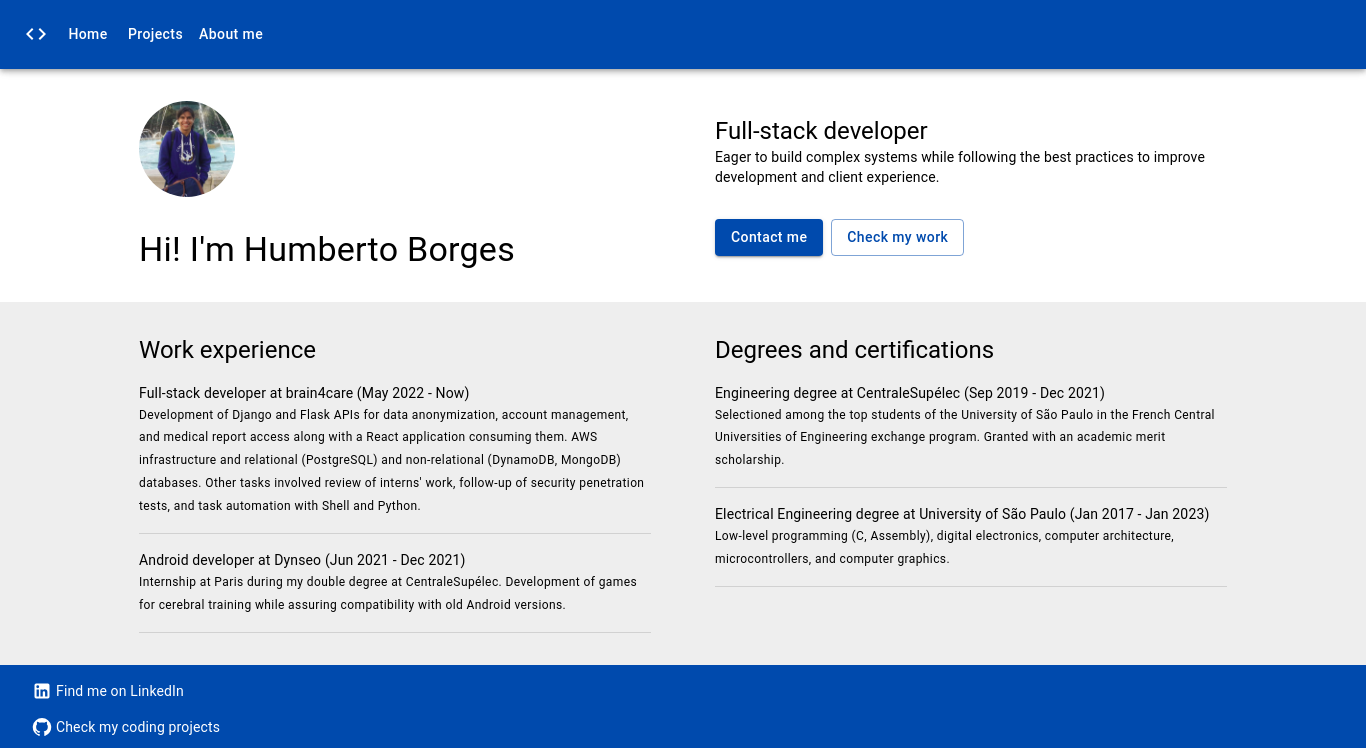
Test: should redirect to the projects page when clicking on the 'view my work' button
Click the button with test id "projects-button" at (898, 238), box 831,219 -> 964,256
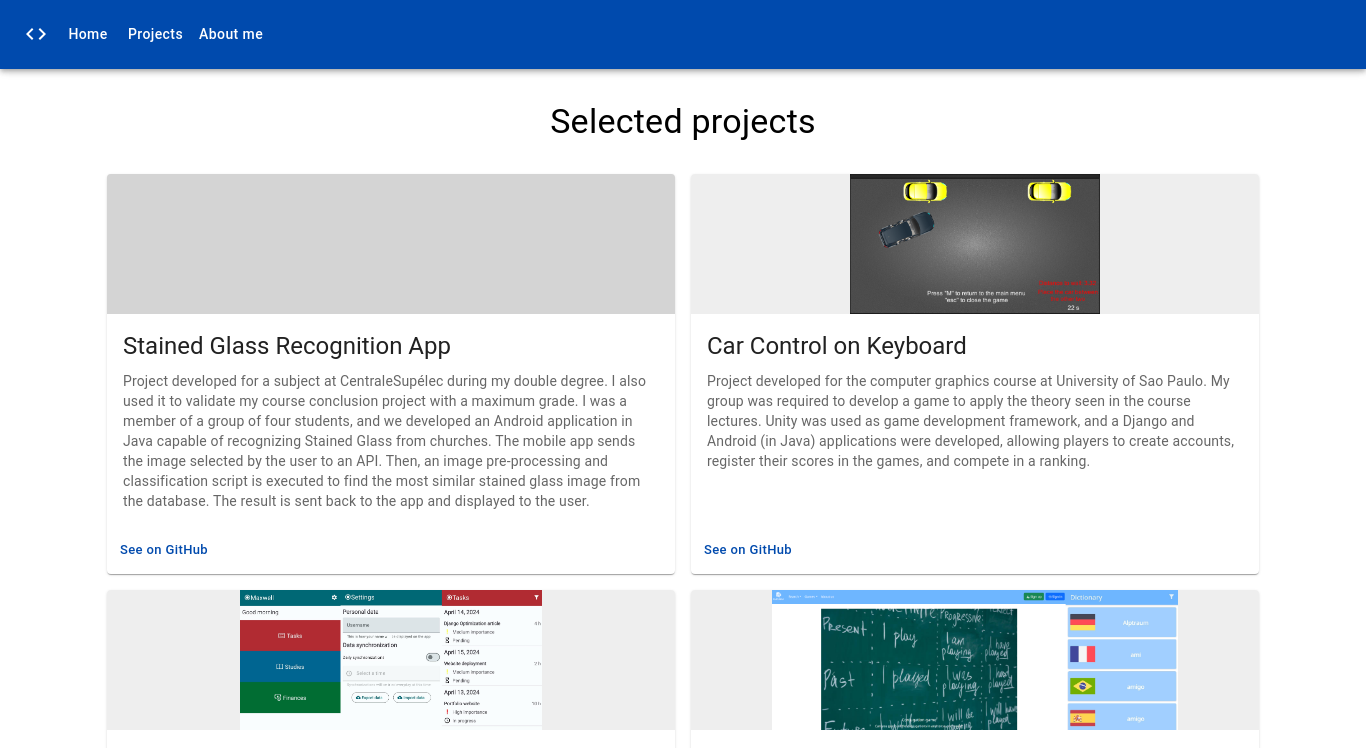
Expected: the heading with test id "projects-title" reads "Selected projects", 550,101 -> 816,141
Expected: the heading "Selected projects" is shown, 550,100 -> 816,140
